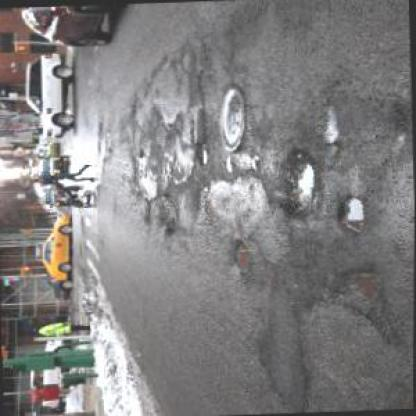pothole: (280, 150, 322, 216), (337, 264, 384, 305), (331, 193, 369, 234), (229, 237, 254, 280), (194, 143, 208, 165)
